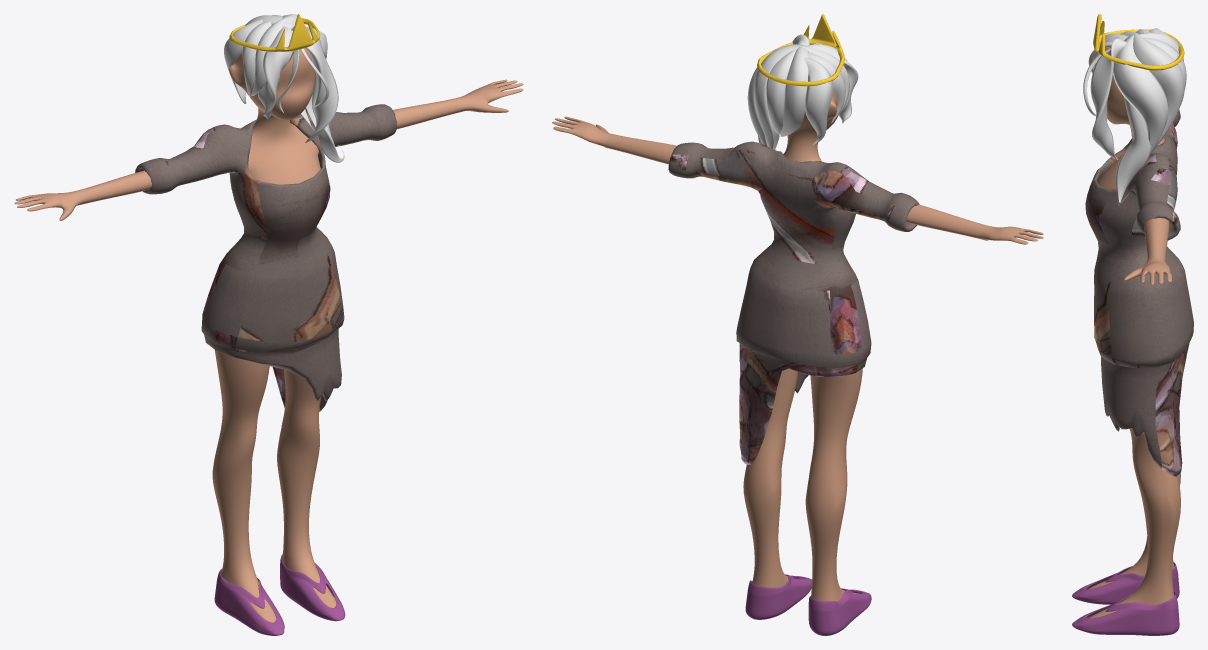
File: princess.glb
3 views of the same model, side by side, from view 1: azimuth 30°, elevation 25°; view 2: azimuth 150°, elevation 25°; view 3: azimuth 270°, elevation 25° (orthographic). The views are drawn at different scales.
Visible parts, largest first — view 1: PinkDress, FemaleBody, FemaleFeet, NurbsPath.016, NurbsPath.017, Circle, NurbsPath.021, NurbsPath.022, NurbsPath.020; view 2: PinkDress, FemaleBody, FemaleFeet, NurbsPath.023, NurbsPath.022, Circle, NurbsPath.025, NurbsPath.024, NurbsPath.017; view 3: PinkDress, FemaleBody, FemaleFeet, NurbsPath.026, NurbsPath.025, NurbsPath.016, NurbsPath.027, Circle, NurbsPath.024, NurbsPath.018, NurbsPath.023.
Boxes of the visible parts, x1=… form: PinkDress: x1=135, y1=104, x2=397, y2=412; FemaleBody: x1=14, y1=48, x2=523, y2=622; FemaleFeet: x1=214, y1=554, x2=345, y2=635; NurbsPath.016: x1=291, y1=25, x2=338, y2=142; NurbsPath.017: x1=257, y1=26, x2=293, y2=119; Circle: x1=229, y1=14, x2=320, y2=51; NurbsPath.021: x1=242, y1=21, x2=271, y2=98; NurbsPath.022: x1=224, y1=18, x2=262, y2=103; NurbsPath.020: x1=251, y1=19, x2=284, y2=95; PinkDress: x1=668, y1=141, x2=919, y2=464; FemaleBody: x1=552, y1=88, x2=1043, y2=601; FemaleFeet: x1=745, y1=574, x2=871, y2=635; NurbsPath.023: x1=780, y1=46, x2=808, y2=136; NurbsPath.022: x1=804, y1=57, x2=833, y2=144; Circle: x1=757, y1=14, x2=844, y2=86; NurbsPath.025: x1=754, y1=45, x2=803, y2=149; NurbsPath.024: x1=766, y1=49, x2=796, y2=134; NurbsPath.017: x1=807, y1=44, x2=858, y2=123; PinkDress: x1=1085, y1=109, x2=1193, y2=476; FemaleBody: x1=1088, y1=47, x2=1180, y2=618; FemaleFeet: x1=1072, y1=562, x2=1179, y2=635; NurbsPath.026: x1=1113, y1=35, x2=1168, y2=154; NurbsPath.025: x1=1133, y1=34, x2=1184, y2=149; NurbsPath.016: x1=1090, y1=37, x2=1126, y2=160; NurbsPath.027: x1=1116, y1=97, x2=1151, y2=205; Circle: x1=1093, y1=14, x2=1184, y2=70; NurbsPath.024: x1=1143, y1=37, x2=1186, y2=89; NurbsPath.018: x1=1083, y1=48, x2=1110, y2=116; NurbsPath.023: x1=1138, y1=32, x2=1183, y2=61.
Size of the model in its own units: 3.41 by 3.92 by 0.7159.
Materials: 6 (1 with a texture image).
